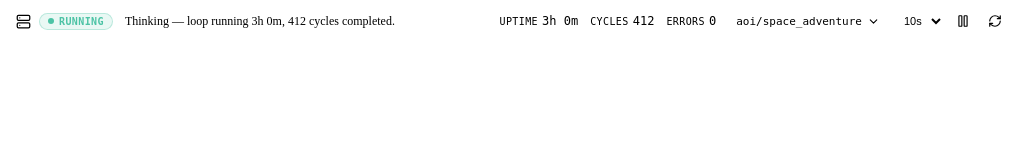
Scenario: StatusStrip › shows the session-list error rather than pretending there are none
Click the button titled "aoi/space_adventure": (808, 21) [728,10,888,32]
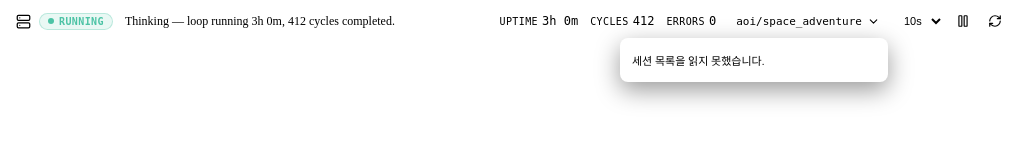
Expected: the text "세션 목록을 읽지 못했습니다." is shown, [632,54,764,66]
